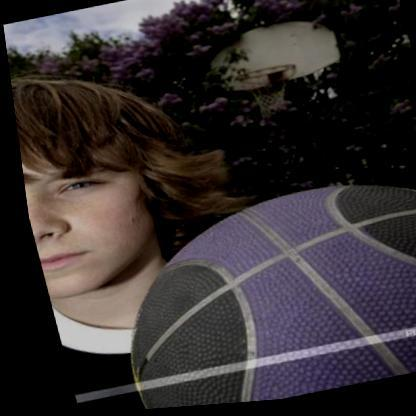basketball: (79, 165, 416, 413)
rim: (229, 64, 295, 87)
